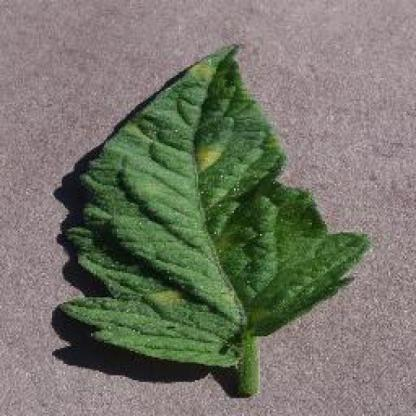Tomato_Leaf_Mold: (60, 40, 368, 366)
